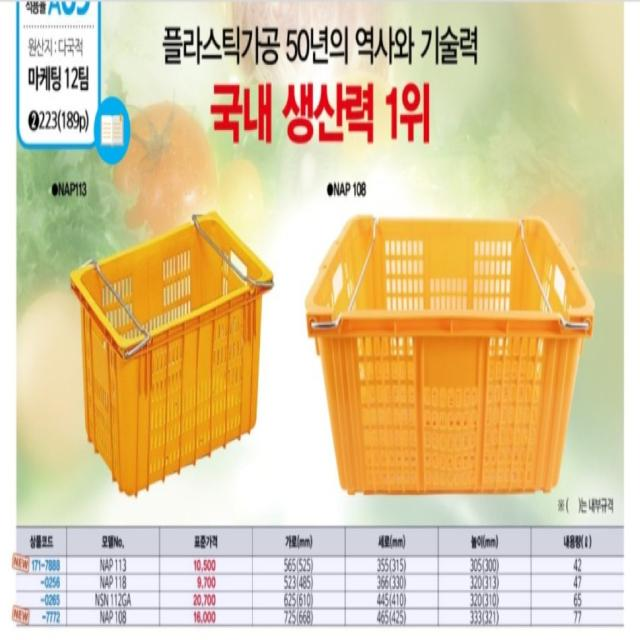basket: (12, 185, 333, 500), (305, 213, 597, 494)
